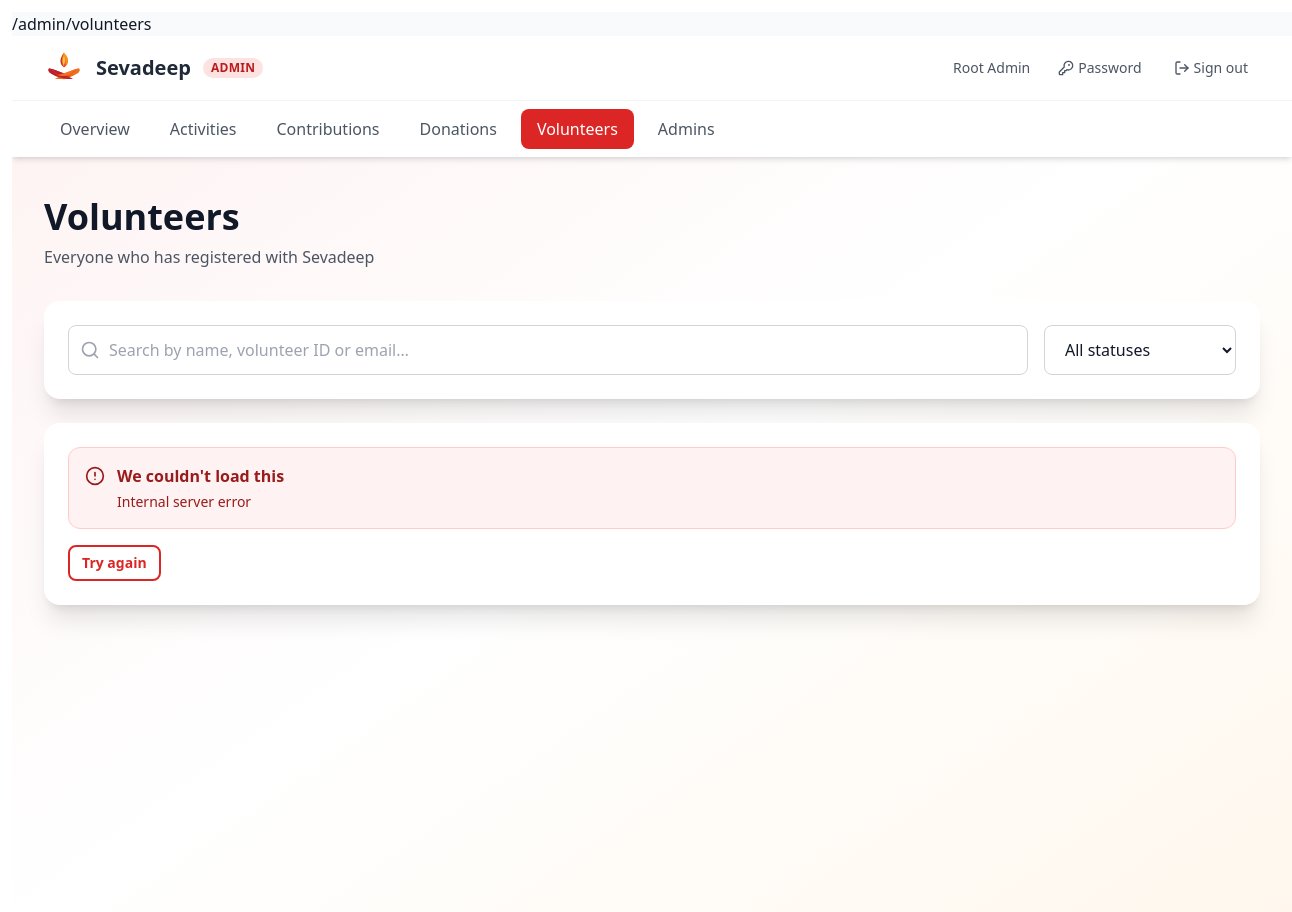
Test case: Volunteers list › shows an error with retry
Check: the text "Internal server error" is shown, box [117,492,251,511]
Click the button "Try again": (114, 563) [68,545,161,581]
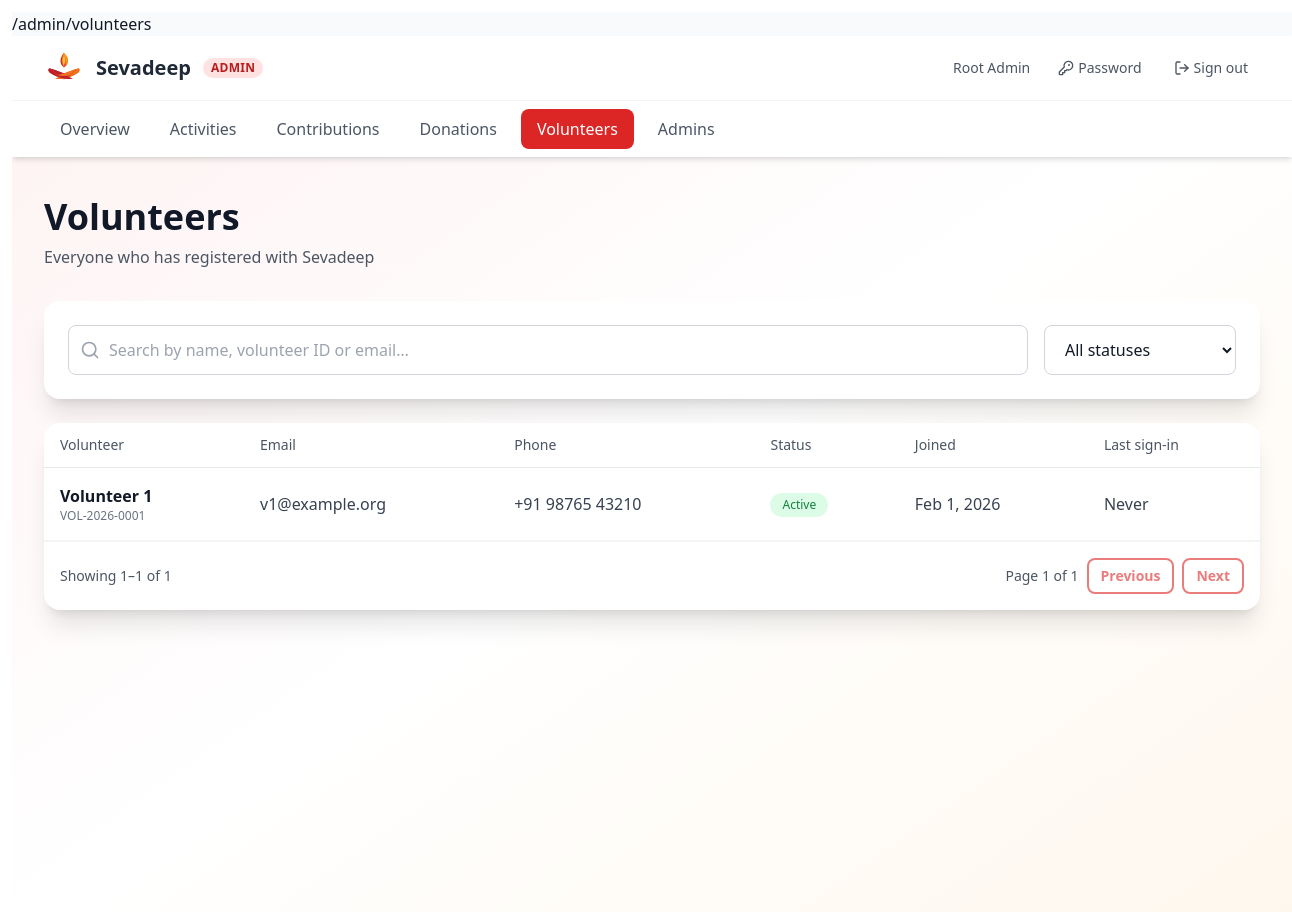
Check: the link "Volunteer 1" is shown, box [60,485,152,507]
